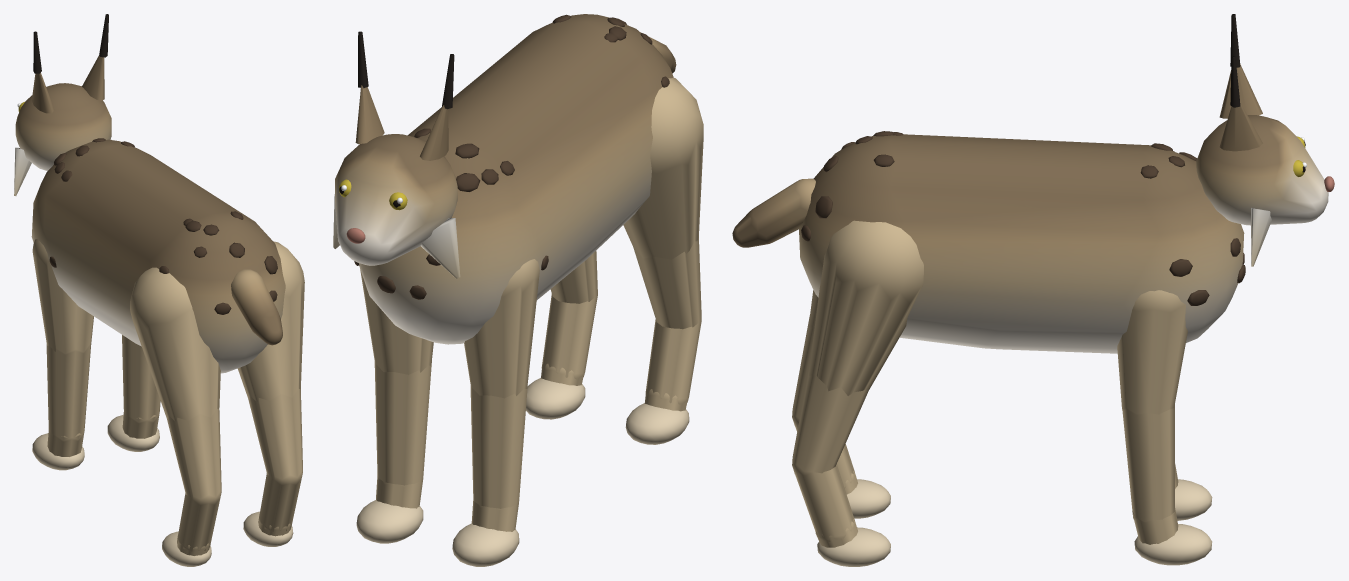
File: Lynx.glb
3 views of the same model, side by side, from view 1: azimuth 30°, elevation 25°; view 2: azimuth 150°, elevation 25°; view 3: azimuth 270°, elevation 25° (orthographic). The views are drawn at different scales.
Parts seen in each view (by area): view 1: Body, LegBL, LegBR, LegFL, Head, LegFR, Tail; view 2: Body, LegBL, Head, LegFL, LegFR, LegBR; view 3: Body, LegBR, LegFR, Head, Tail, LegBL, LegFL.
Boxes of the visible parts, box(x1,y1,x2,y2) form: Body: box(31, 138, 285, 373); LegBL: box(130, 267, 221, 566); LegBR: box(237, 241, 304, 546); LegFL: box(32, 239, 93, 470); Head: box(14, 14, 111, 195); LegFR: box(107, 335, 160, 451); Tail: box(231, 269, 282, 345); Body: box(354, 14, 673, 344); LegBL: box(623, 77, 703, 444); Head: box(333, 31, 460, 278); LegFL: box(452, 259, 539, 566); LegFR: box(356, 269, 433, 543); LegBR: box(526, 251, 597, 419); Body: box(799, 131, 1245, 353); LegBR: box(792, 220, 923, 566); LegFR: box(1117, 290, 1212, 565); Head: box(1196, 14, 1334, 266); Tail: box(732, 178, 815, 247); LegBL: box(792, 290, 890, 518); LegFL: box(1175, 464, 1212, 520).
Size of the model in its own units: 2.08 by 5.06 by 5.49.
1 material, 1 textured.
